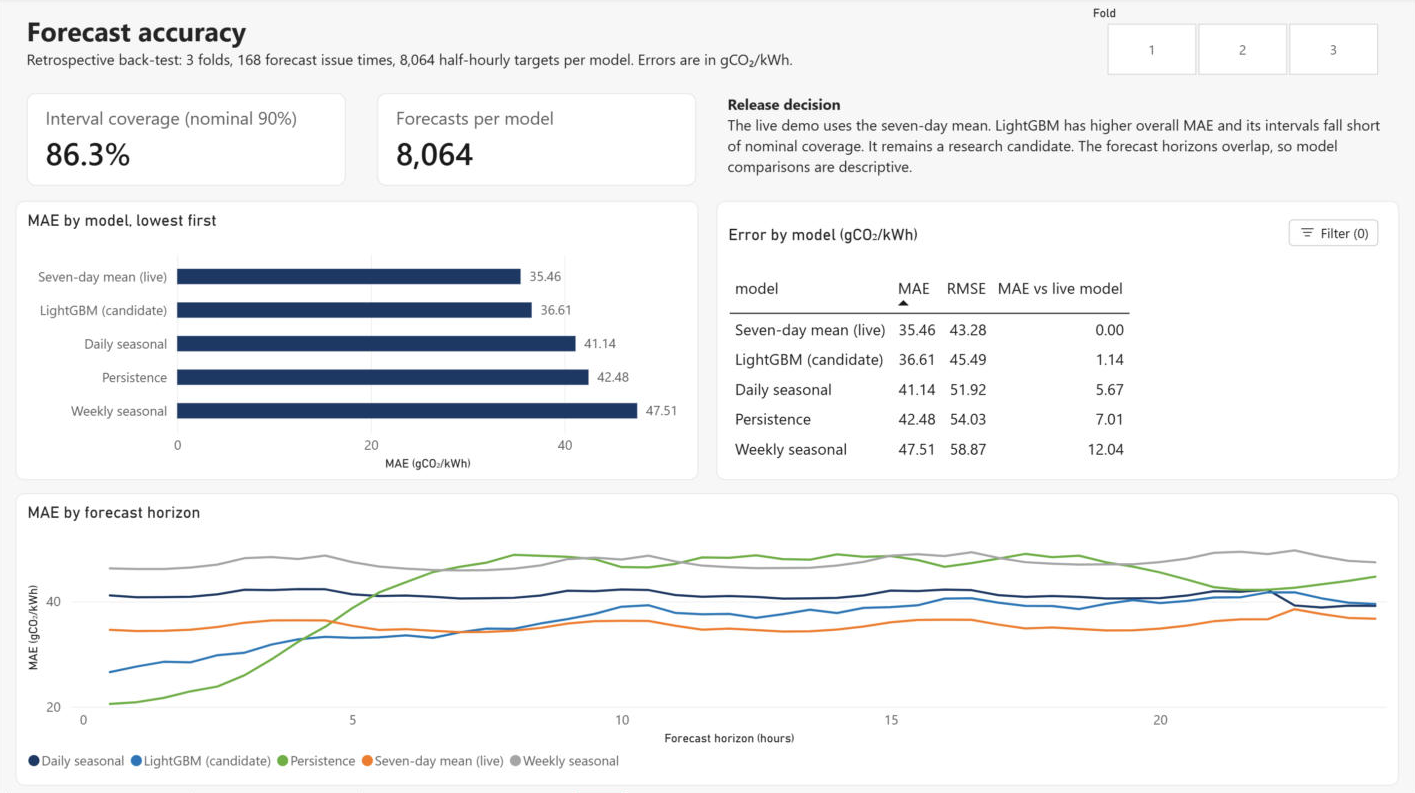

The dashboard page shown, as its layout file describes it:
{"tool":"powerbi","page":{"name":"Forecast accuracy","canvas":[1280,720],"ordinal":1},"visuals":[{"type":"textbox","box":[16,8,948,64],"z":0},{"type":"slicer","fields":{"Values":["Backtest.fold"]},"box":[980,8,284,64],"z":1},{"type":"cardVisual","fields":{"Data":["Backtest.Interval coverage"]},"box":[16,80,308,96],"z":2},{"type":"cardVisual","fields":{"Data":["Backtest.Forecasts per model"]},"box":[332,80,308,96],"z":3},{"type":"textbox","box":[648,80,616,96],"z":4},{"type":"clusteredBarChart","title":"MAE by model, lowest first","fields":{"Category":["Backtest.model"],"Y":["Backtest.MAE"]},"box":[16,184,616,252],"z":5},{"type":"tableEx","title":"Error by model (gCO₂/kWh)","fields":{"Values":["Backtest.model","Backtest.MAE","Backtest.RMSE","Backtest.MAE vs live model"]},"box":[648,184,616,252],"z":6},{"type":"lineChart","title":"MAE by forecast horizon","fields":{"Category":["Backtest.horizon_hours"],"Series":["Backtest.model"],"Y":["Backtest.MAE"]},"box":[16,448,1248,264],"z":7}]}

Visuals, with their boxes in screenshot pixels (x1, y1, x2, y2), scaled from the page's 1280x720 canvas onto the 1415x793 screenshot:
textbox: bbox(18, 9, 1066, 79)
slicer - Backtest.fold: bbox(1083, 9, 1397, 79)
cardVisual - Backtest.Interval coverage: bbox(18, 88, 358, 194)
cardVisual - Backtest.Forecasts per model: bbox(367, 88, 708, 194)
textbox: bbox(716, 88, 1397, 194)
"MAE by model, lowest first" clusteredBarChart: bbox(18, 203, 699, 480)
"Error by model (gCO₂/kWh)" tableEx: bbox(716, 203, 1397, 480)
"MAE by forecast horizon" lineChart: bbox(18, 493, 1397, 784)
